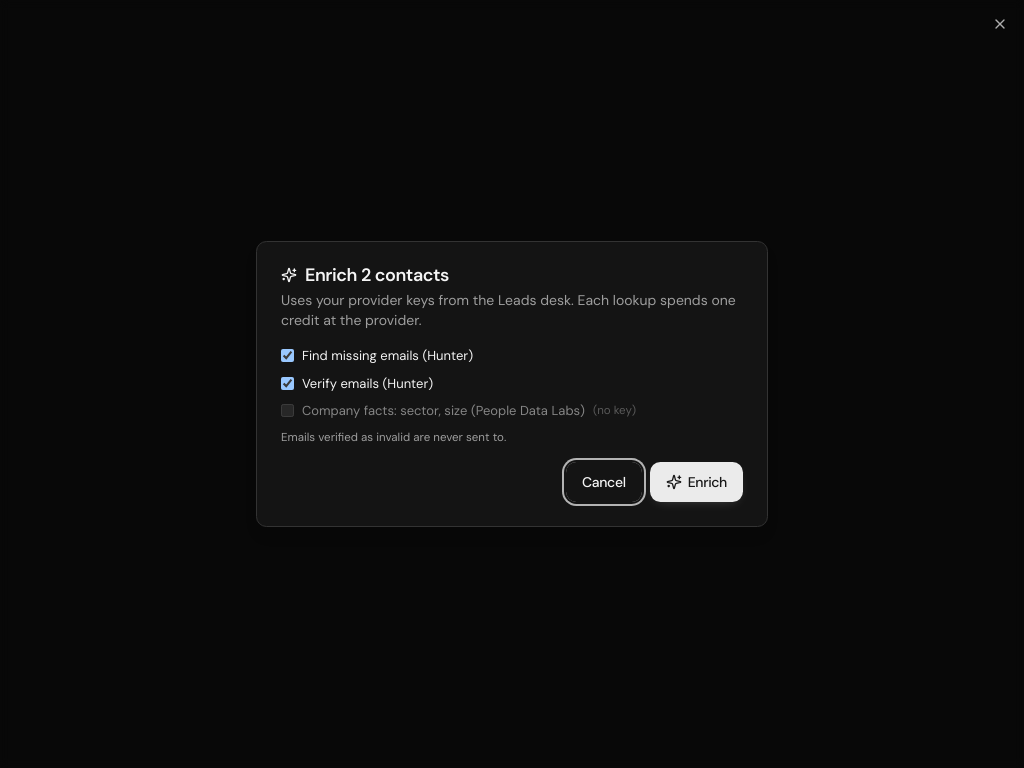
Test: EnrichDialog › only offers what the keys allow and shows the summary
The image size is (1024, 768).
Check: the checkbox labelled "Company facts: sector, size (People Data Labs) (no key)" is disabled, box [281,404,294,417]
Click the button with test id "enrich-run". click: (696, 482)
box: [650,462,743,502]
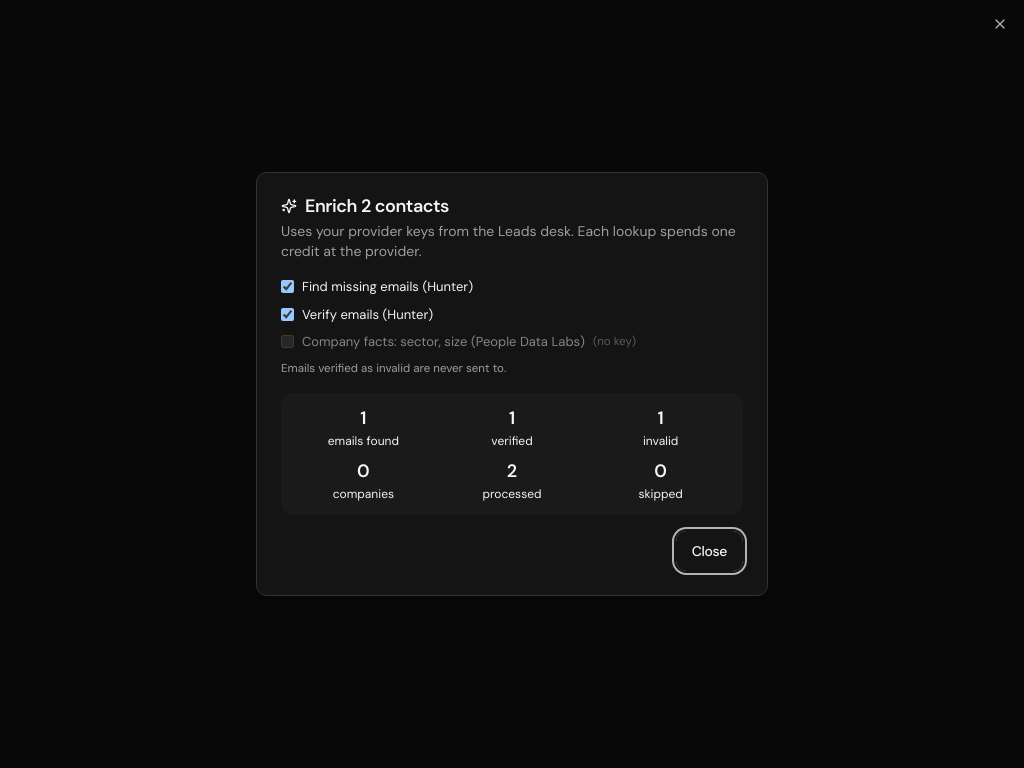
Check: the message "1 emails found 1 verified 1 invalid 0 companies 2 processed 0 skipped" is shown, box [281,393,743,515]
Check: the message with test id "enrich-result" shows "invalid", box [643,433,678,449]
